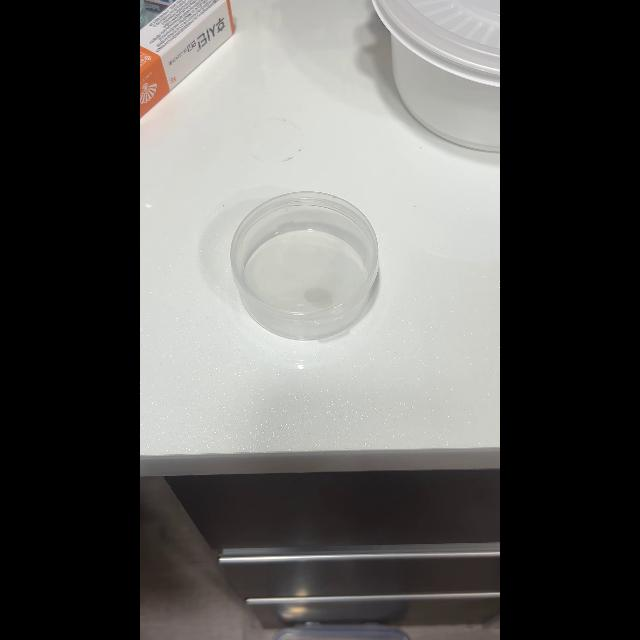clean: (229, 190, 379, 338)
